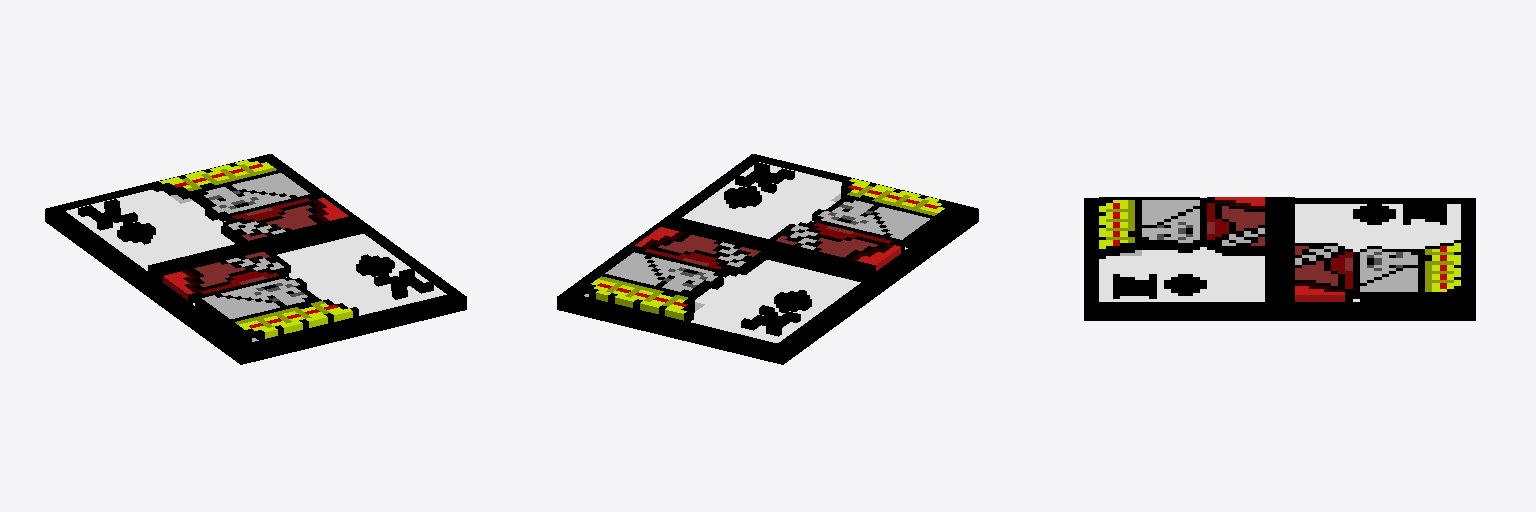
The picture shows the model from 3 angles: view 1: azimuth 30°, elevation 25°; view 2: azimuth 150°, elevation 25°; view 3: azimuth 270°, elevation 25°; orthographic projection.
Size of the model in its own units: 36 by 3 by 54.
1 materials, 1 textured.